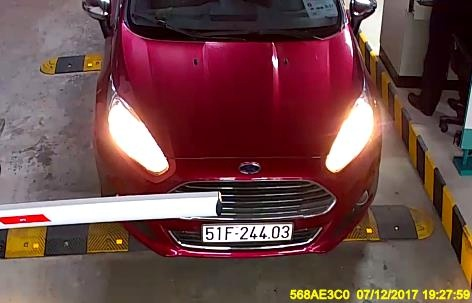plate: (203, 219, 293, 242)
